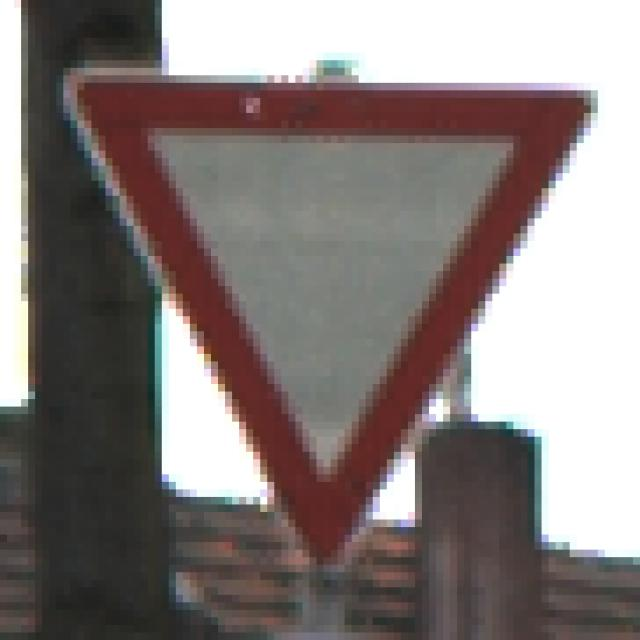Give Way: (57, 62, 585, 589)
